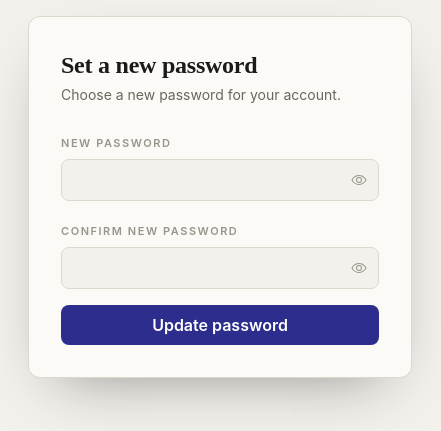
Test: updates the password when the two fields match
Type "newsecret1" into the password field labelled "New password" at x=220, y=180, box [61,159,379,201]
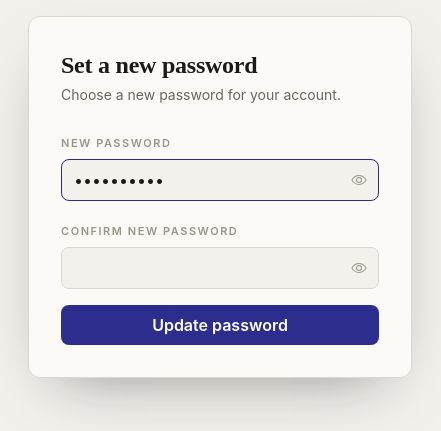
Type "newsecret1" into the password field labelled "Confirm new password" at x=220, y=268, box [61,247,379,289]
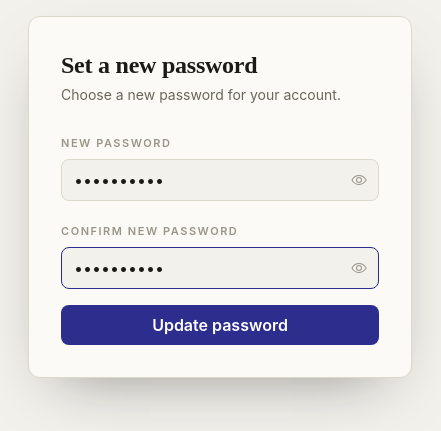
Click the button "Update password" at x=220, y=325, box [61,305,379,345]
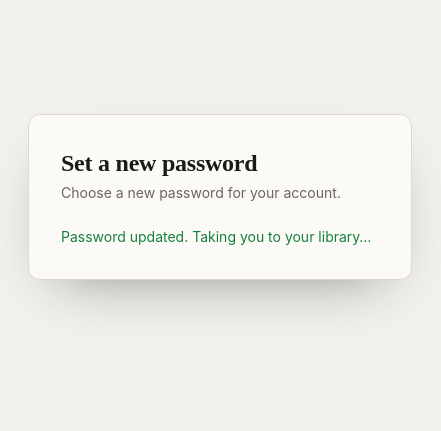
expect the text "Password updated. Taking you to your library…" is shown: met, box [61,227,379,247]
